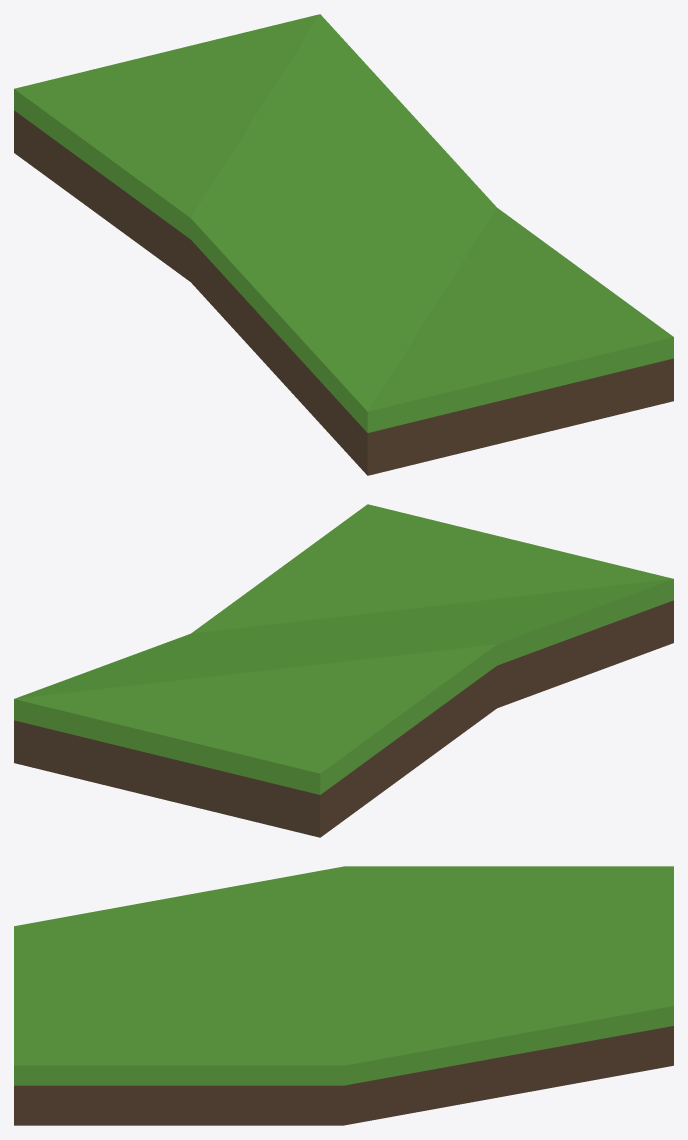
File: tile-hill-curve.glb
The picture shows the model from 3 angles, top to bottom: view 1: azimuth 30°, elevation 25°; view 2: azimuth 150°, elevation 25°; view 3: azimuth 270°, elevation 25°; orthographic projection. The views are drawn at different scales.
Visible parts, largest first — view 1: tile-hill-curve; view 2: tile-hill-curve; view 3: tile-hill-curve.
Part boxes in pixels (x1,y1,x2,y2): tile-hill-curve: [14, 14, 673, 475]; tile-hill-curve: [14, 504, 673, 837]; tile-hill-curve: [14, 866, 673, 1125].
Size of the model in its own units: 30 by 12 by 60.
1 material, 1 textured.
